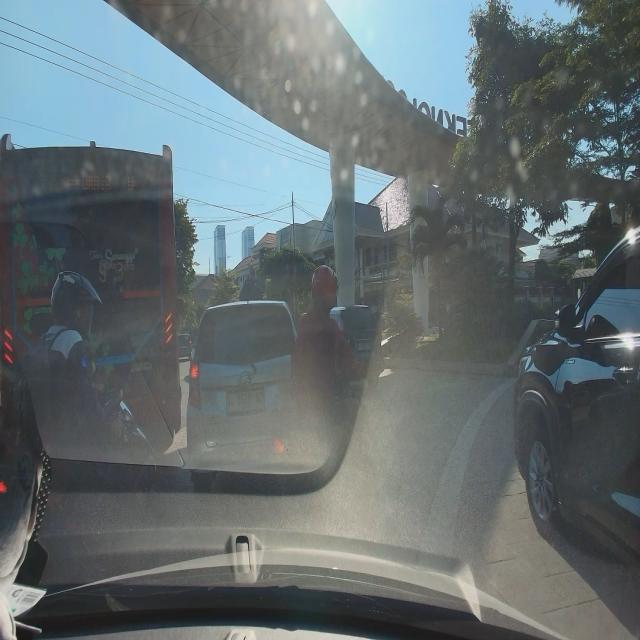bus: (0, 126, 183, 457)
car: (184, 298, 304, 468), (330, 303, 389, 393)
license-plate: (227, 390, 264, 414), (357, 341, 373, 351)
